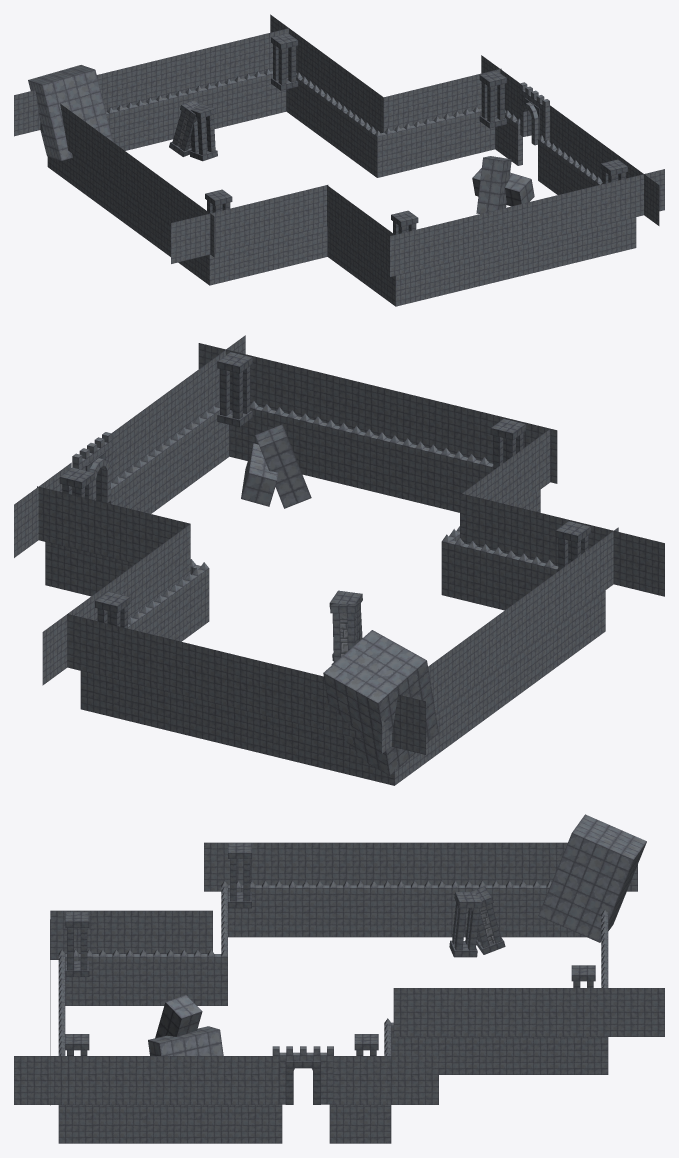
The model's file is StageWall.fbx.
The picture shows the model from 3 angles, top to bottom: view 1: azimuth 30°, elevation 25°; view 2: azimuth 150°, elevation 25°; view 3: azimuth 270°, elevation 25°; orthographic projection. The views are drawn at different scales.
Visible parts, largest first — view 1: Castle_Block_5x5x7__2_, Castle_Wall_14__28__1, Castle_Wall_14__44_, Castle_Wall_14__29__1, Castle_Wall_14__43_, Castle_Ground___Bright_8x8__22_, Castle_Ground___Bright_8x8__23_, Castle_Ground___Bright_8x8__25_, Castle_Ground___Bright_8x8__26_, Castle_Ground___Bright_8x8__33_, Castle_Ground___Bright_8x8__21_, Castle_Ground___Bright_8x8__24_ (+69 smaller); view 2: Castle_Block_5x5x7__2_, Castle_Wall_14__34__1, Castle_Wall_14__33__1, Castle_Wall_14__25_, Castle_Ground___Bright_8x8__36_, Castle_Ground___Bright_8x8__40_, Castle_Ground___Bright_8x8__37_, Castle_Ground___Bright_8x8__39_, Castle_Ground___Bright_8x8__21_, Castle_Ground___Bright_8x8__17__1, Castle_Ground___Bright_8x8__18__1, Castle_Ground___Bright_8x8__35_ (+60 smaller); view 3: Castle_Block_5x5x7__2_, Castle_Wall_14__29_, Castle_Wall_14__30_, Castle_Wall_14__31_, Castle_Wall_14__24_, Castle_Wall_14__24__1, Castle_Wall_14__33_, Castle_Ground___Bright_8x8__3_, Castle_Ground___Bright_8x8__19__1, Castle_Ground___Bright_8x8__28_, Castle_Ground___Bright_8x8__29_, Castle_Ground___Bright_8x8__30_ (+39 smaller).
Boxes of the visible parts, x1,y1,x2,y2 form: Castle_Block_5x5x7__2_: (28,65,113,160); Castle_Wall_14__28__1: (374,121,421,177); Castle_Wall_14__44_: (127,93,173,149); Castle_Wall_14__29__1: (416,111,460,167); Castle_Wall_14__43_: (205,73,251,128); Castle_Ground___Bright_8x8__22_: (429,217,468,267); Castle_Ground___Bright_8x8__23_: (468,207,507,257); Castle_Ground___Bright_8x8__25_: (547,188,586,238); Castle_Ground___Bright_8x8__26_: (586,178,625,229); Castle_Ground___Bright_8x8__33_: (249,194,288,244); Castle_Ground___Bright_8x8__21_: (171,213,210,263); Castle_Ground___Bright_8x8__24_: (507,198,546,248); Castle_Block_5x5x7__2_: (323,630,438,775); Castle_Wall_14__34__1: (325,419,383,493); Castle_Wall_14__33__1: (376,432,434,504); Castle_Wall_14__25_: (447,535,502,608); Castle_Ground___Bright_8x8__36_: (118,626,169,692); Castle_Ground___Bright_8x8__40_: (221,651,272,717); Castle_Ground___Bright_8x8__37_: (67,614,118,679); Castle_Ground___Bright_8x8__39_: (272,664,323,729); Castle_Ground___Bright_8x8__21_: (613,531,664,596); Castle_Ground___Bright_8x8__17__1: (88,499,139,563); Castle_Ground___Bright_8x8__18__1: (37,486,88,552); Castle_Ground___Bright_8x8__35_: (170,639,220,704); Castle_Block_5x5x7__2_: (538,814,646,942); Castle_Wall_14__29_: (275,881,336,937); Castle_Wall_14__30_: (329,880,390,937); Castle_Wall_14__31_: (384,880,444,937); Castle_Wall_14__24_: (167,949,227,1005); Castle_Wall_14__24__1: (112,949,173,1005); Castle_Wall_14__33_: (492,881,553,937); Castle_Ground___Bright_8x8__3_: (333,1056,387,1104); Castle_Ground___Bright_8x8__19__1: (393,988,447,1036); Castle_Ground___Bright_8x8__28_: (448,988,502,1036); Castle_Ground___Bright_8x8__29_: (502,988,556,1036); Castle_Ground___Bright_8x8__30_: (556,988,610,1036).
Bounding box in the file's own units: 6500 × 1469 × 7200.
1 material, 1 textured.
